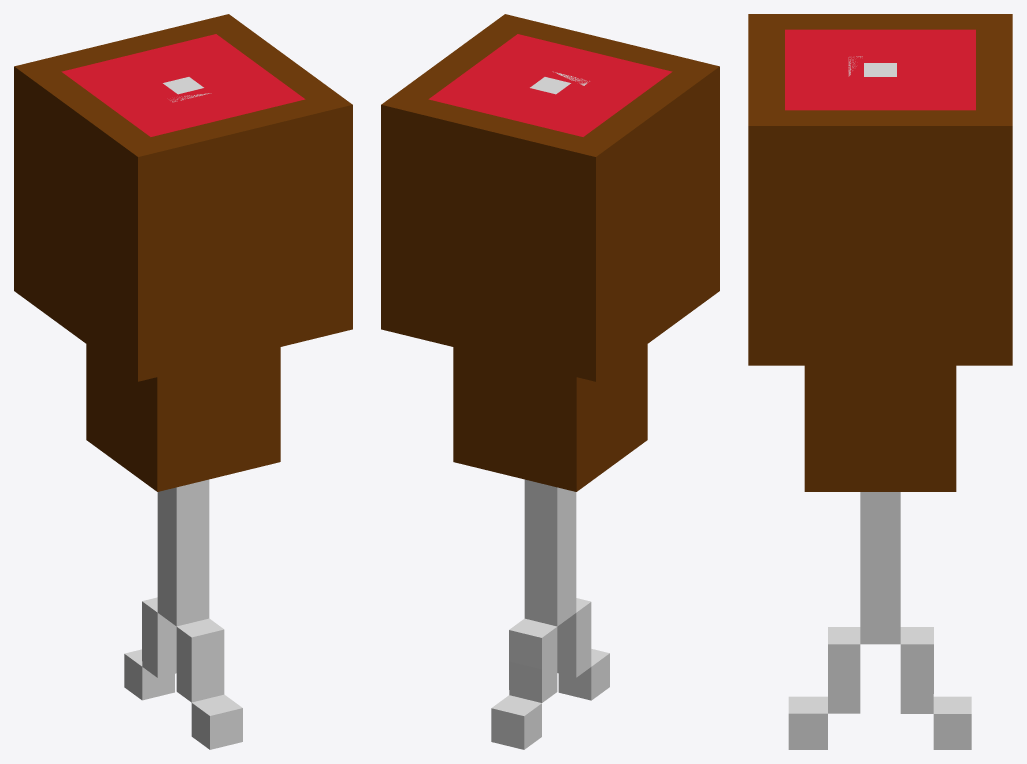
The model's file is chicken nyum nyum.fbx.
3 renders of one model, left to right at view 1: azimuth 30°, elevation 25°; view 2: azimuth 150°, elevation 25°; view 3: azimuth 270°, elevation 25°, orthographic. The views are drawn at different scales.
Parts seen in each view (by area): view 1: Meat, Meat 1, Meat 2; view 2: Meat, Meat 1, Meat 2; view 3: Meat, Meat 1, Meat 2.
Part boxes in pixels (x1,y1,x2,y2): Meat: (14,14,352,749); Meat 1: (14,82,349,288); Meat 2: (14,165,119,367); Meat: (381,14,719,749); Meat 1: (456,14,719,380); Meat 2: (596,215,657,381); Meat: (748,14,1012,749); Meat 1: (748,14,984,365); Meat 2: (792,261,984,365).
Bounding box in the file's own units: 200 × 560 × 200.
